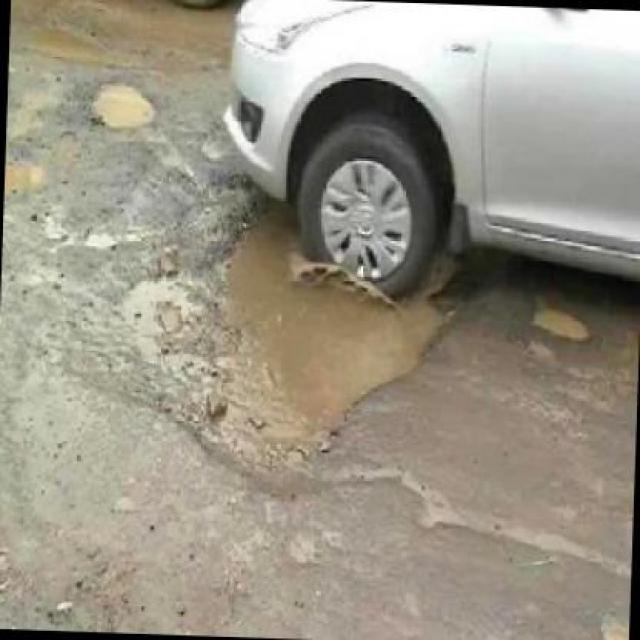pothole1: (142, 158, 468, 498), (86, 74, 160, 128), (528, 300, 594, 345), (4, 144, 51, 204)
